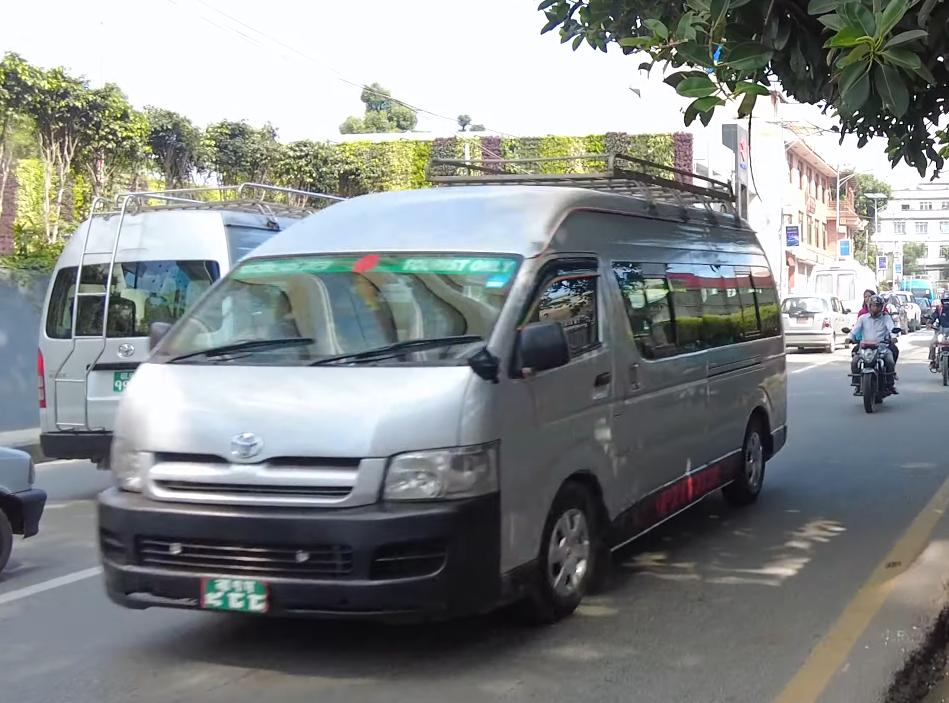bike: (838, 321, 903, 418), (929, 317, 949, 392)
micro_bus: (99, 160, 796, 651), (28, 157, 315, 481)
